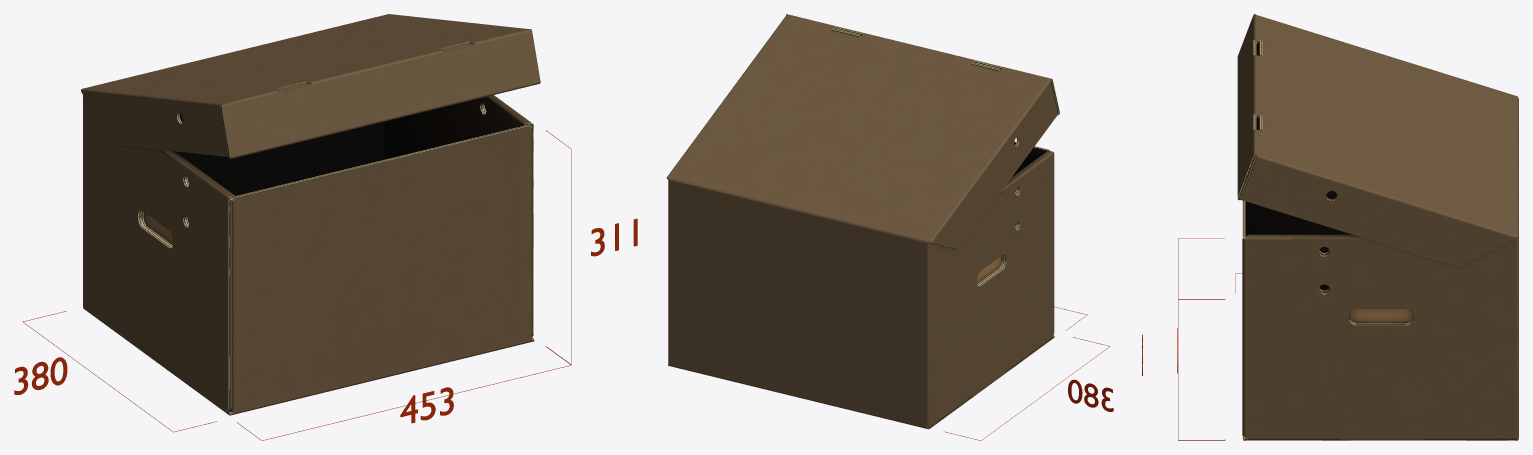
3 views of the same model, side by side, from view 1: azimuth 30°, elevation 25°; view 2: azimuth 150°, elevation 25°; view 3: azimuth 270°, elevation 25° (orthographic). The views are drawn at different scales.
Visible parts, largest first — view 1: _4E0002_ARD-node, Texto.001, Texto; view 2: _4E0002_ARD-node, Texto.001; view 3: _4E0002_ARD-node.
Part boxes in pixels (left/top/right/bottom): _4E0002_ARD-node: left=81, top=14, right=540, bottom=415; Texto.001: left=14, top=357, right=67, bottom=394; Texto: left=400, top=387, right=453, bottom=423; _4E0002_ARD-node: left=666, top=14, right=1059, bottom=429; Texto.001: left=1068, top=379, right=1113, bottom=411; _4E0002_ARD-node: left=1237, top=14, right=1518, bottom=440.
Size of the model in its own units: 0.7689 by 0.4393 by 0.5224.
Materials: 4 (3 with a texture image).
